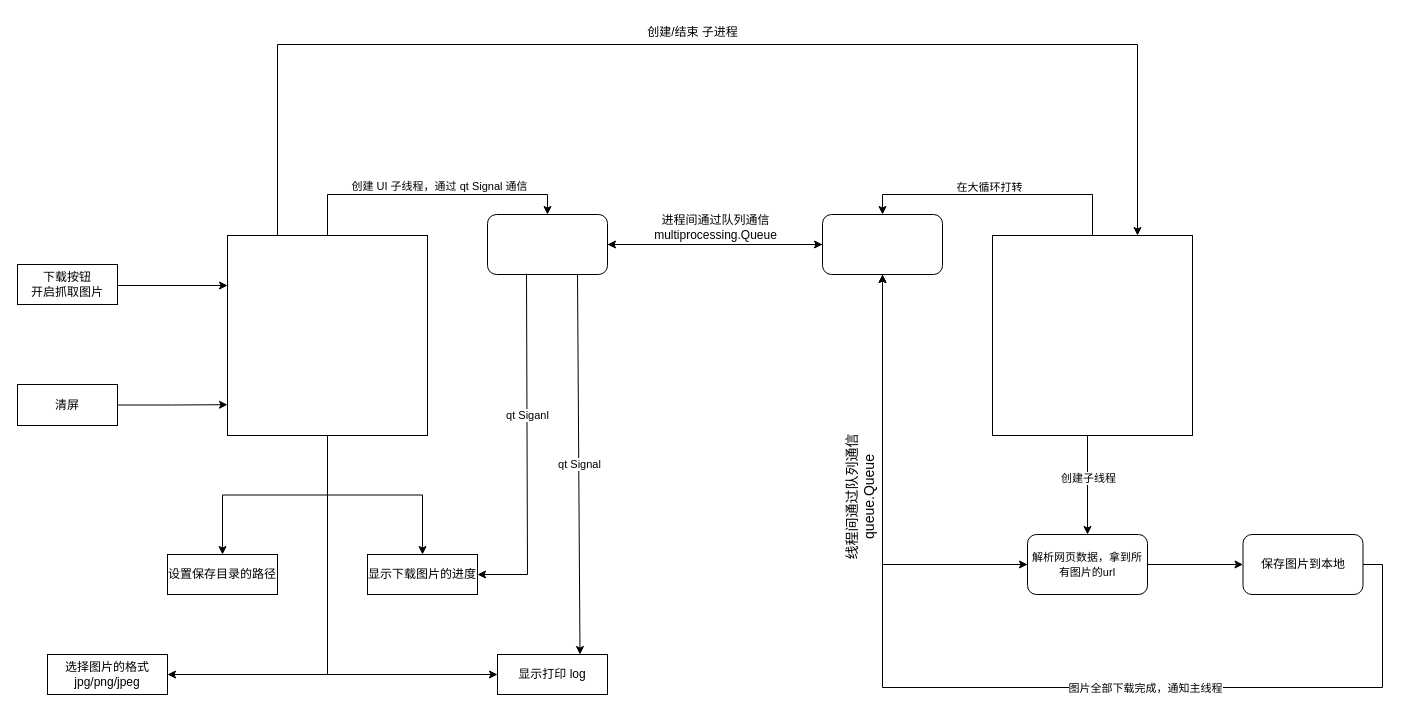
This 1408x713 diagram has some shape labels left out. The box of each missing label's shape, as (x1, y1, x2, y2) in pixels:
UI 主进程(主线程): (226, 234, 428, 436)
UI 子线程: (486, 214, 608, 274)
子进程(主线程): (992, 234, 1192, 436)
通信 主线程: (822, 214, 942, 274)
